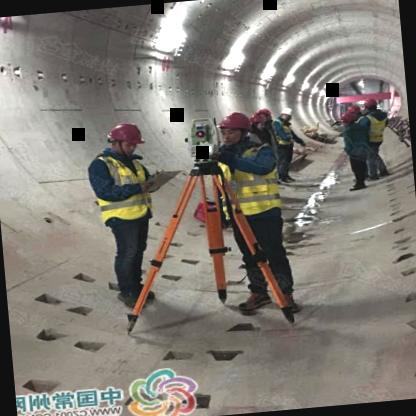helmet: (104, 118, 146, 154), (220, 110, 253, 142), (276, 105, 297, 124), (248, 115, 267, 134), (341, 111, 356, 128), (364, 96, 378, 113), (348, 104, 362, 118)
